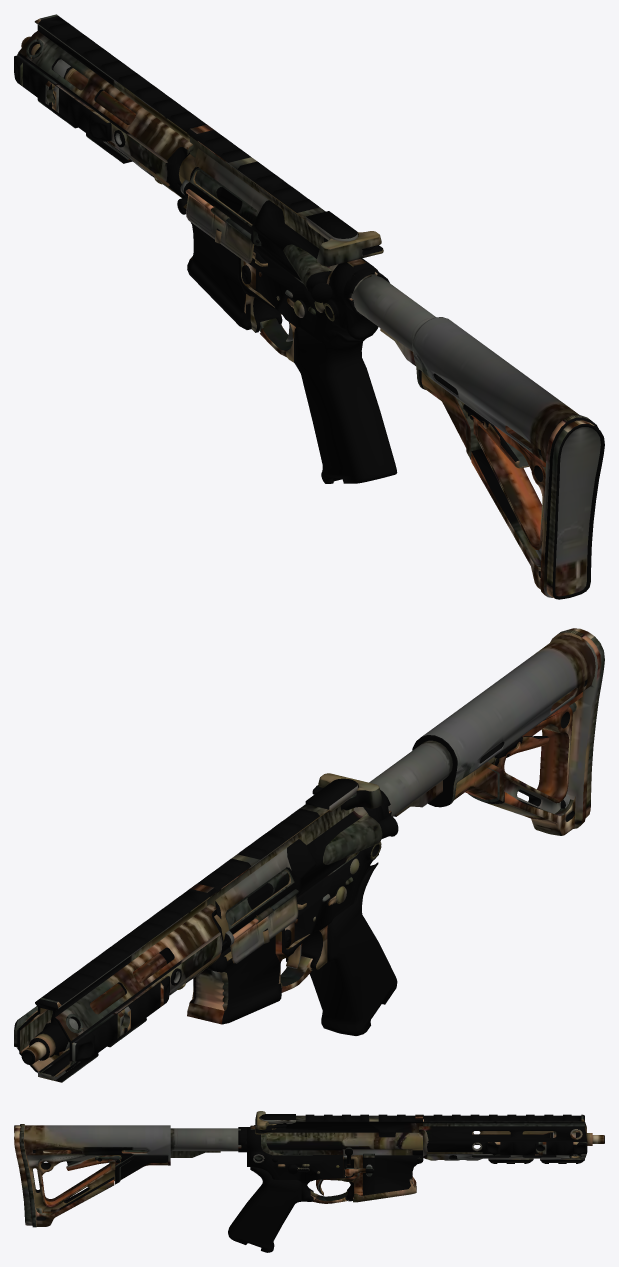
Rendered from R4C-Spartian-Authority.glb.
3 views of the same model, one above another, from view 1: azimuth 30°, elevation 25°; view 2: azimuth 150°, elevation 25°; view 3: azimuth 270°, elevation 25° (orthographic). The views are drawn at different scales.
Parts seen in each view (by area): view 1: R4C Spartian Authority; view 2: R4C Spartian Authority; view 3: R4C Spartian Authority.
Boxes of the visible parts, x1,y1,x2,y2 form: R4C Spartian Authority: [14, 14, 604, 599]; R4C Spartian Authority: [14, 628, 604, 1082]; R4C Spartian Authority: [14, 1111, 604, 1252].
Size of the model in its own units: 0.0476 by 0.1397 by 0.5675.
1 material, 1 textured.
